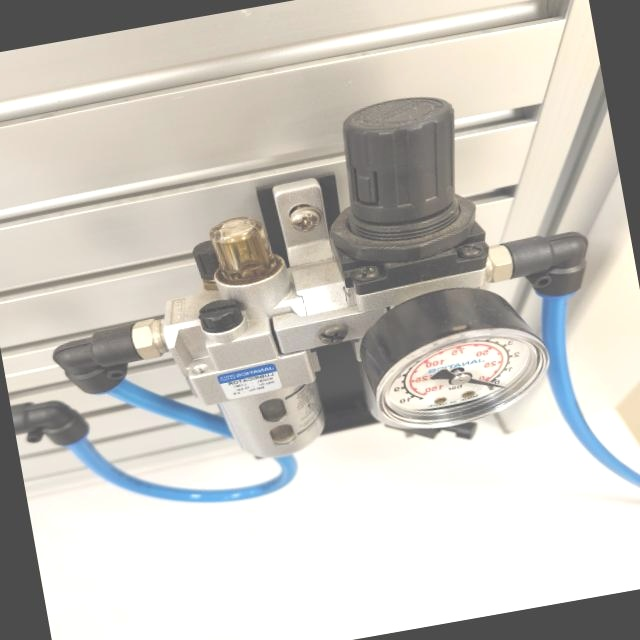FRL unit: (98, 61, 628, 518)
